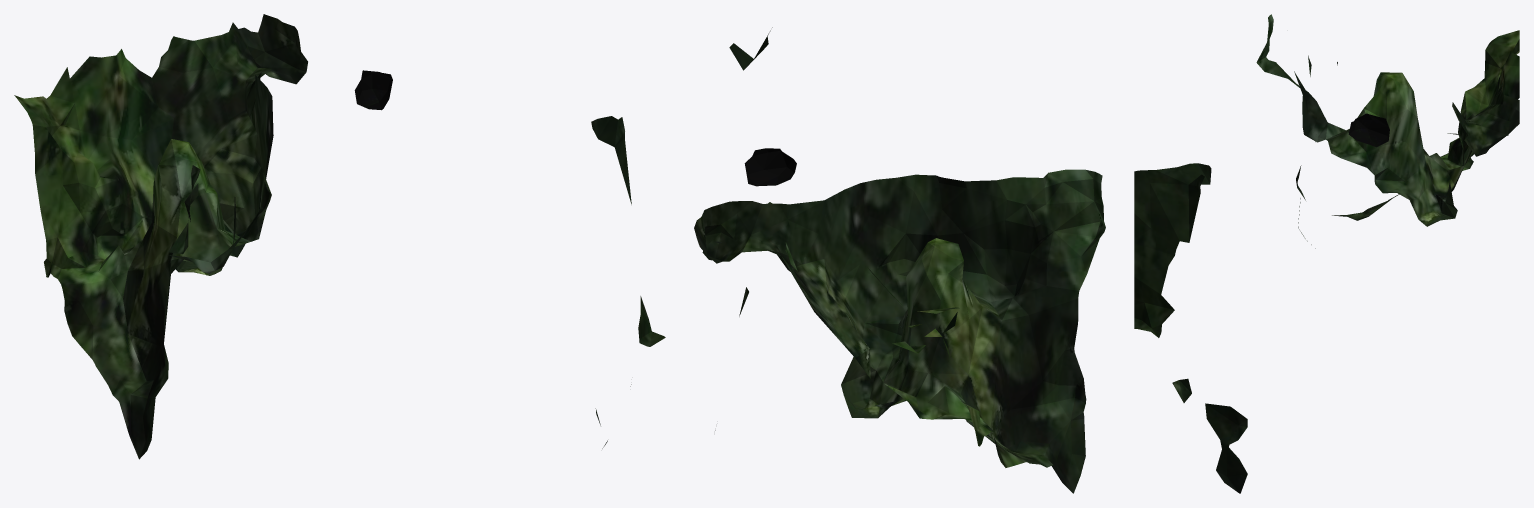
3 views of the same model, side by side, from view 1: azimuth 30°, elevation 25°; view 2: azimuth 150°, elevation 25°; view 3: azimuth 270°, elevation 25° (orthographic). The views are drawn at different scales.
Bounding box in the file's own units: 0.8374 × 0.7613 × 0.8374.
2 materials, 2 textured.
